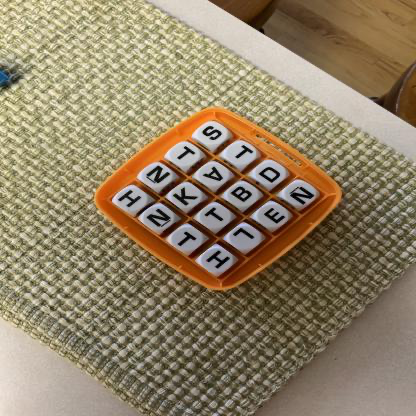a: (199, 165, 230, 187)
b: (228, 184, 260, 208)
d: (255, 163, 287, 186)
e: (258, 205, 290, 229)
h: (202, 249, 234, 274), (116, 188, 149, 212)
k: (171, 186, 203, 209)
l: (229, 227, 263, 251)
n: (143, 207, 175, 232), (285, 183, 318, 207), (142, 165, 174, 189)
s: (198, 124, 229, 146)
t: (171, 228, 204, 252), (200, 206, 232, 230), (225, 143, 258, 166), (170, 144, 200, 167)
